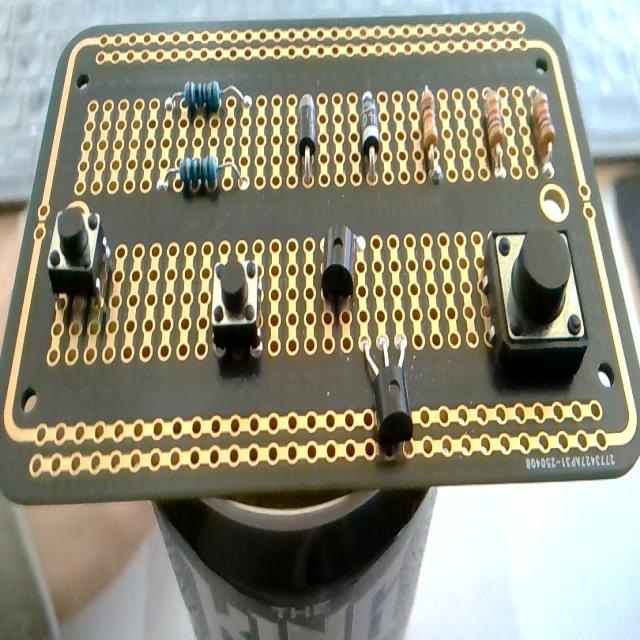diode: (351, 75, 385, 201), (289, 83, 321, 199)
resistor: (156, 81, 256, 123), (156, 156, 250, 196), (522, 80, 558, 184), (416, 81, 448, 190), (481, 82, 511, 192)
switch: (480, 222, 588, 371), (203, 247, 265, 350), (48, 200, 108, 300)
transistor: (353, 321, 421, 453), (312, 218, 378, 300)
